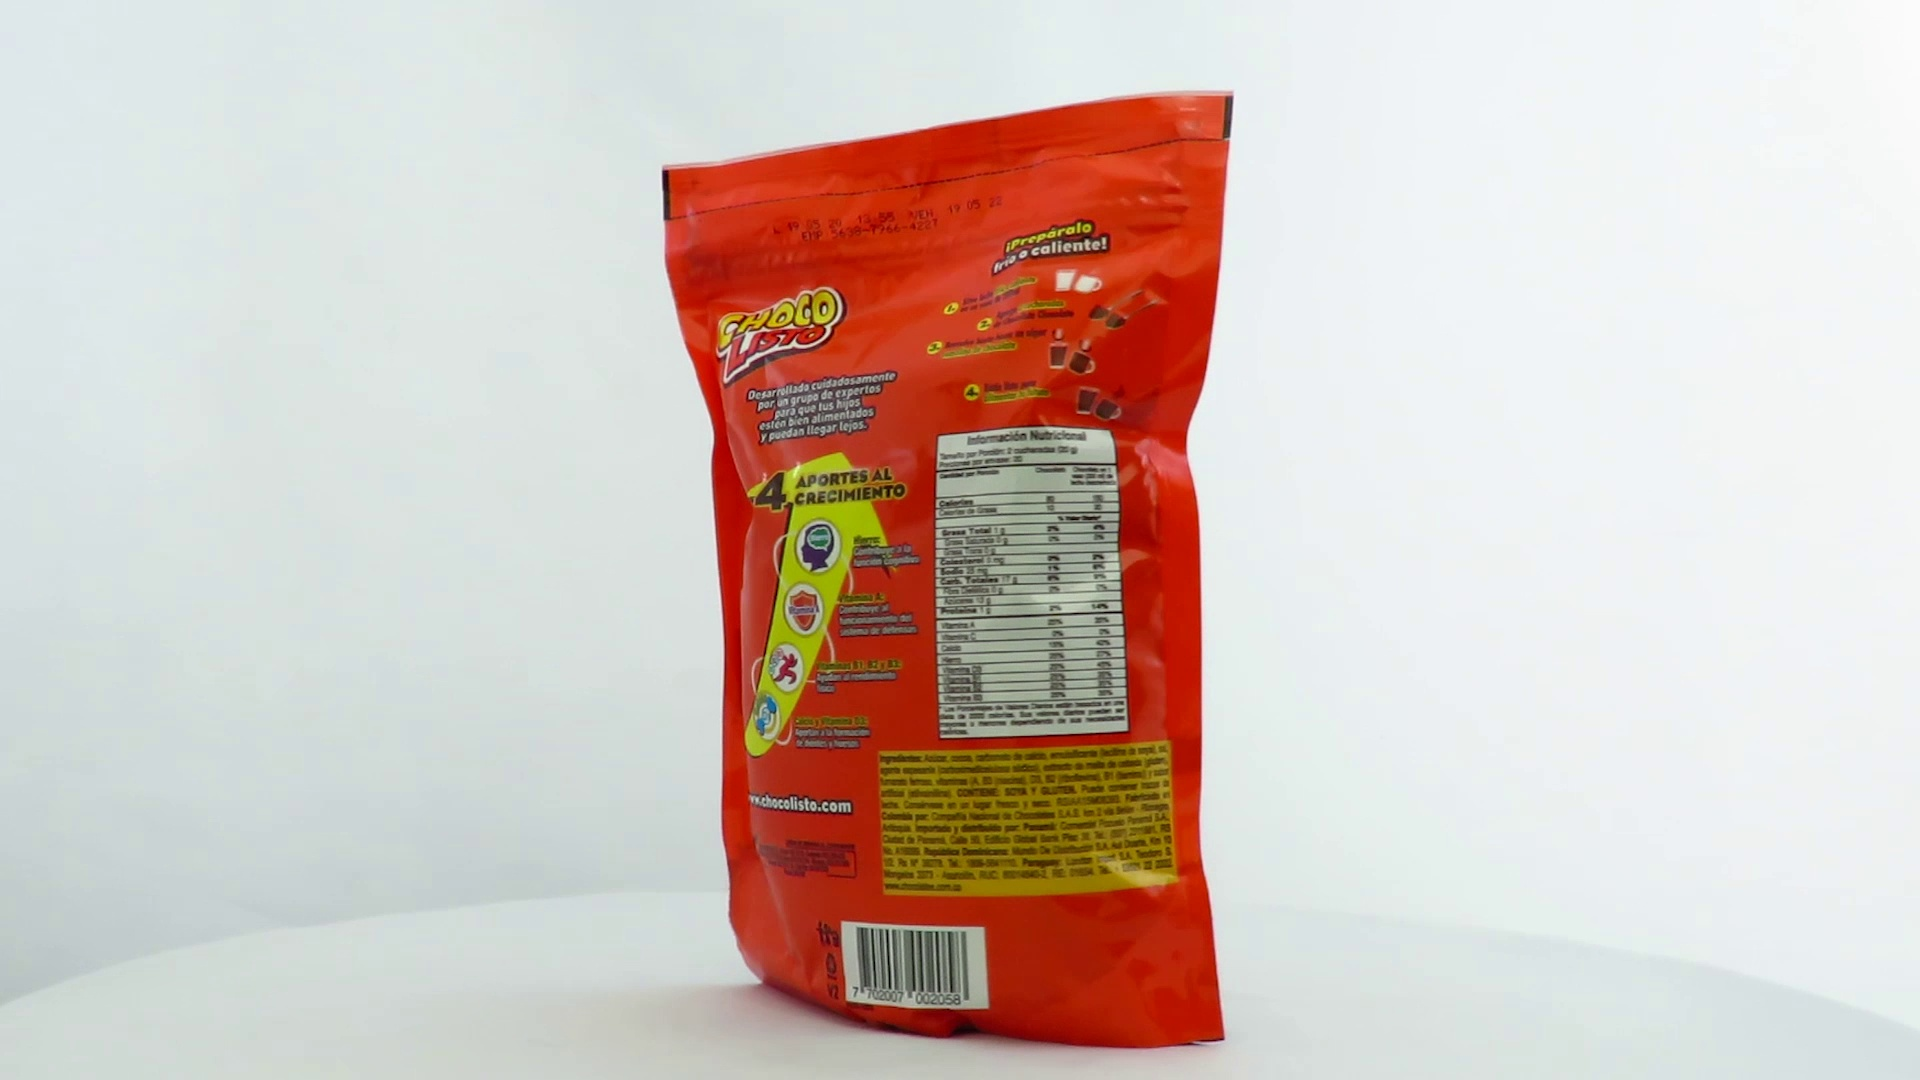COL0170103DYP40000: (657, 84, 1240, 1055)
